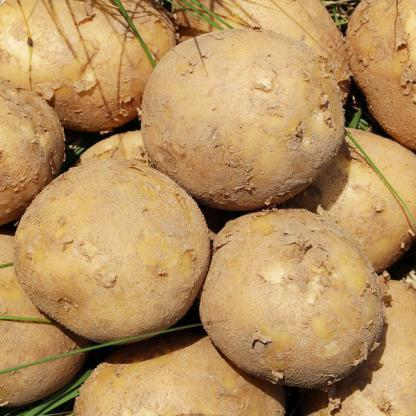potato: (131, 23, 348, 208), (200, 208, 394, 397), (14, 151, 209, 334)
